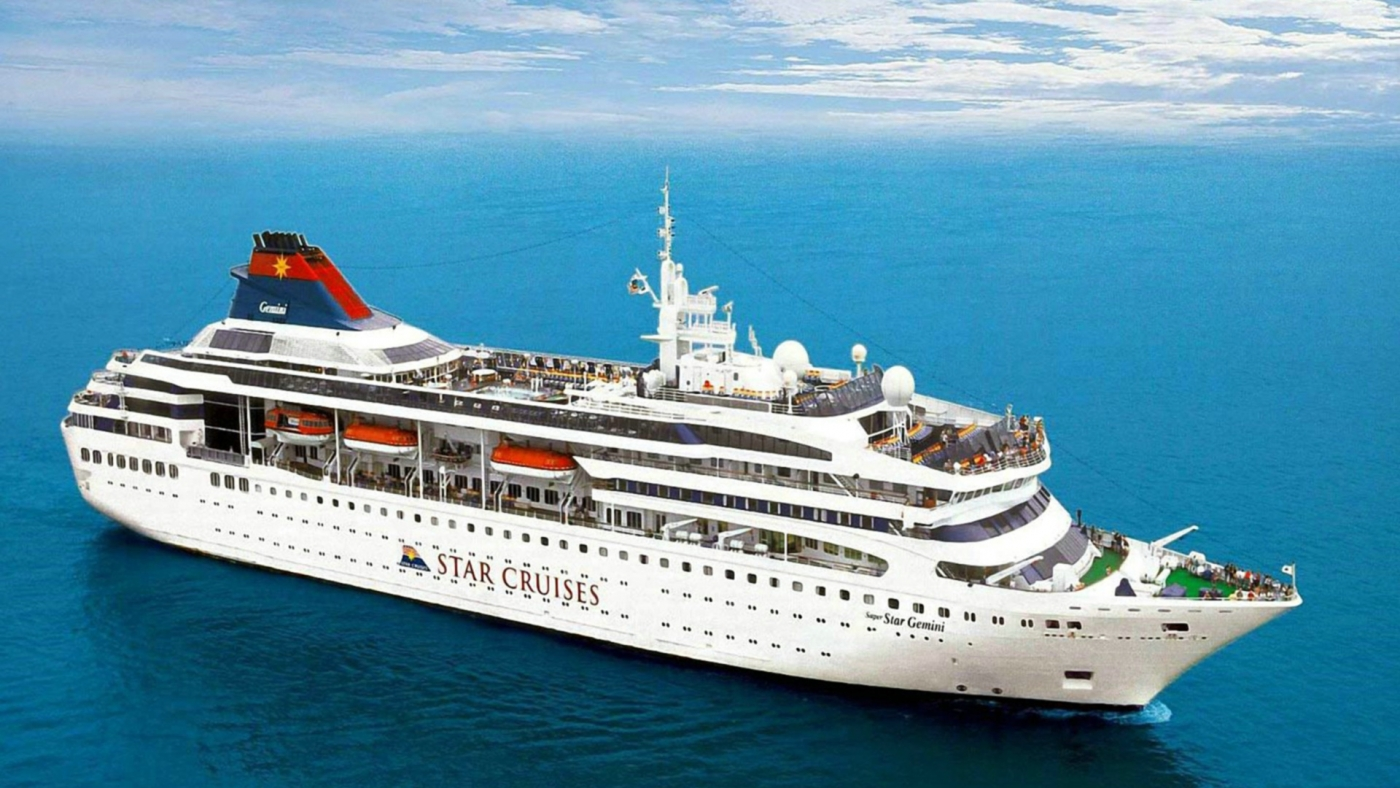youlun: (54, 221, 1304, 713)
